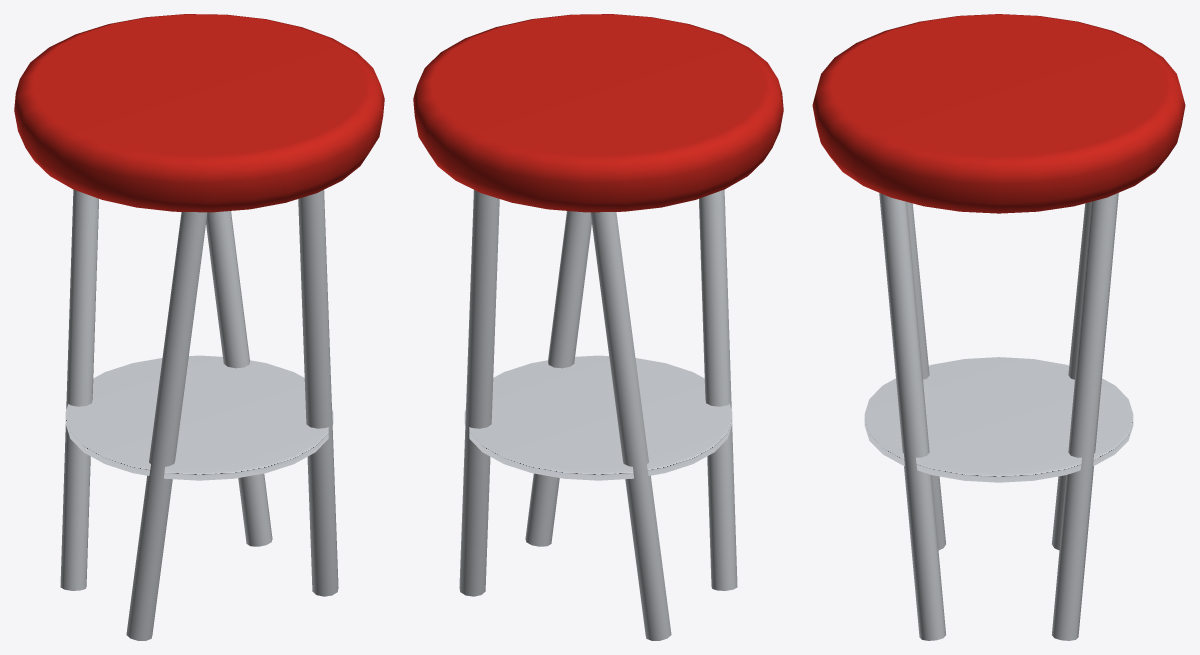
File: stool.glb
The picture shows the model from 3 angles, left to right: view 1: azimuth 30°, elevation 25°; view 2: azimuth 150°, elevation 25°; view 3: azimuth 270°, elevation 25°; orthographic projection.
Parts seen in each view (by area): view 1: Cone, Cone.001; view 2: Cone, Cone.001; view 3: Cone, Cone.001.
Part boxes in pixels (x1,y1,x2,y2): Cone: (14, 14, 384, 212); Cone.001: (60, 189, 338, 640); Cone: (413, 14, 783, 212); Cone.001: (459, 189, 737, 640); Cone: (812, 14, 1185, 213); Cone.001: (864, 193, 1133, 640).
Size of the model in its own units: 0.3334 by 0.4998 by 0.3334.
